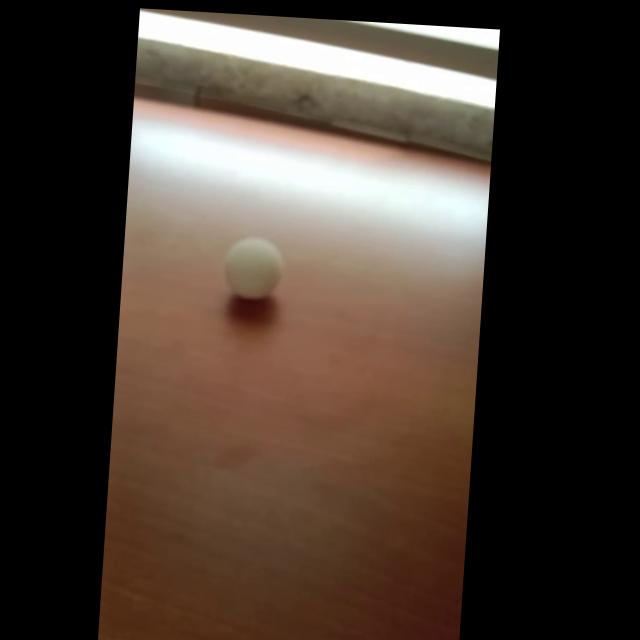white ball: (222, 235, 285, 301)
